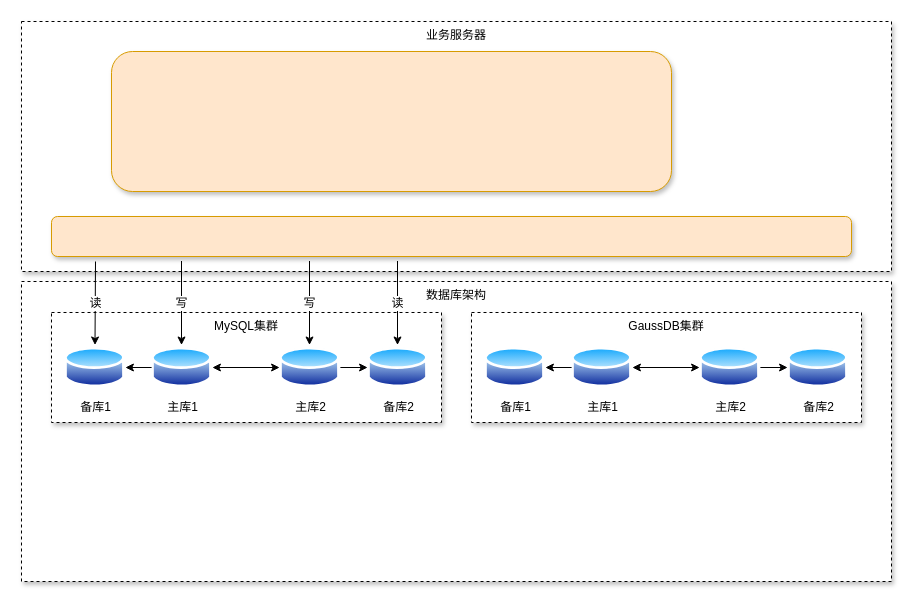
Some shapes in this 915 by 606 pixel diagram are drawn without their labels. The shapes that lost their labels are listed below. From the top down, each one's centre as x and y in pixels, then its label:
At (392,122): "业务层服务集群".
At (452,238): "DDB数据访问层".
